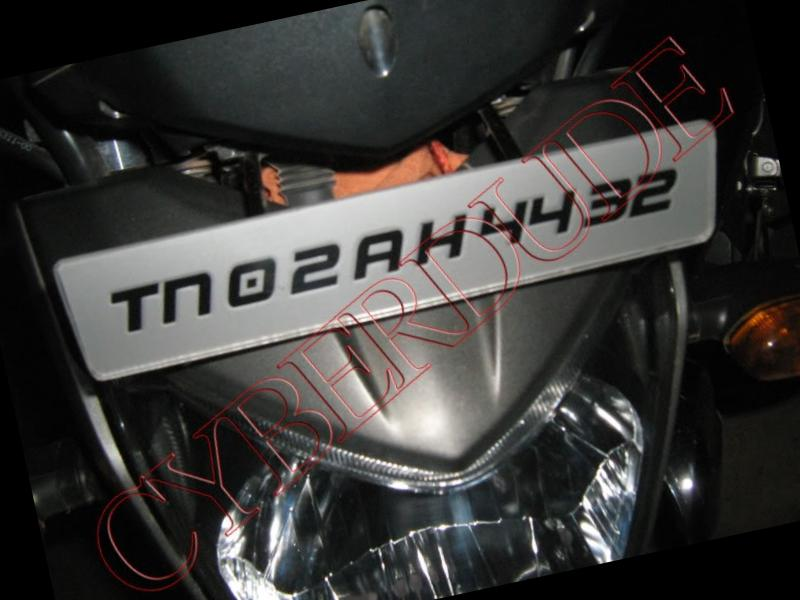plate: (35, 108, 740, 397)
